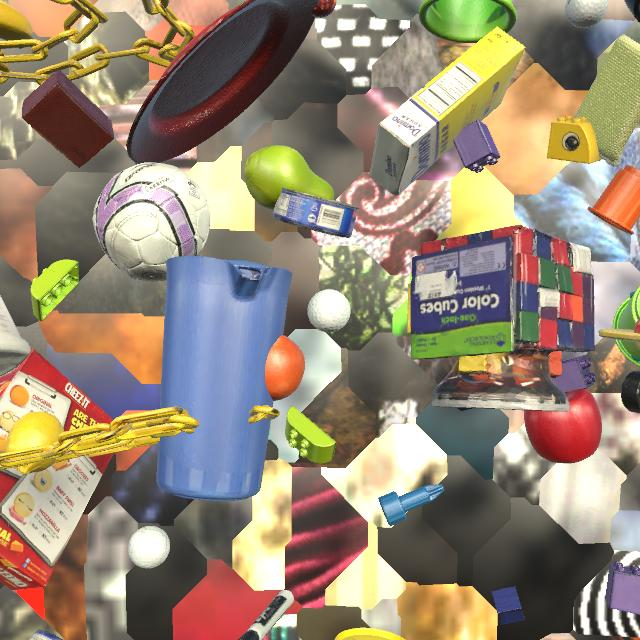ycb_003_cracker_box: (0, 349, 114, 590)
ycb_004_sugar_box: (369, 26, 525, 196)
ycb_007_tuna_fish_can: (273, 187, 360, 238), (29, 629, 64, 640)
ycb_011_banana: (0, 1, 33, 49)
ycb_013_apple: (524, 389, 602, 463)
ycb_014_lemon: (6, 411, 64, 475)
ycb_016_pear: (243, 145, 334, 210)
ycb_017_orange: (265, 335, 305, 401)
